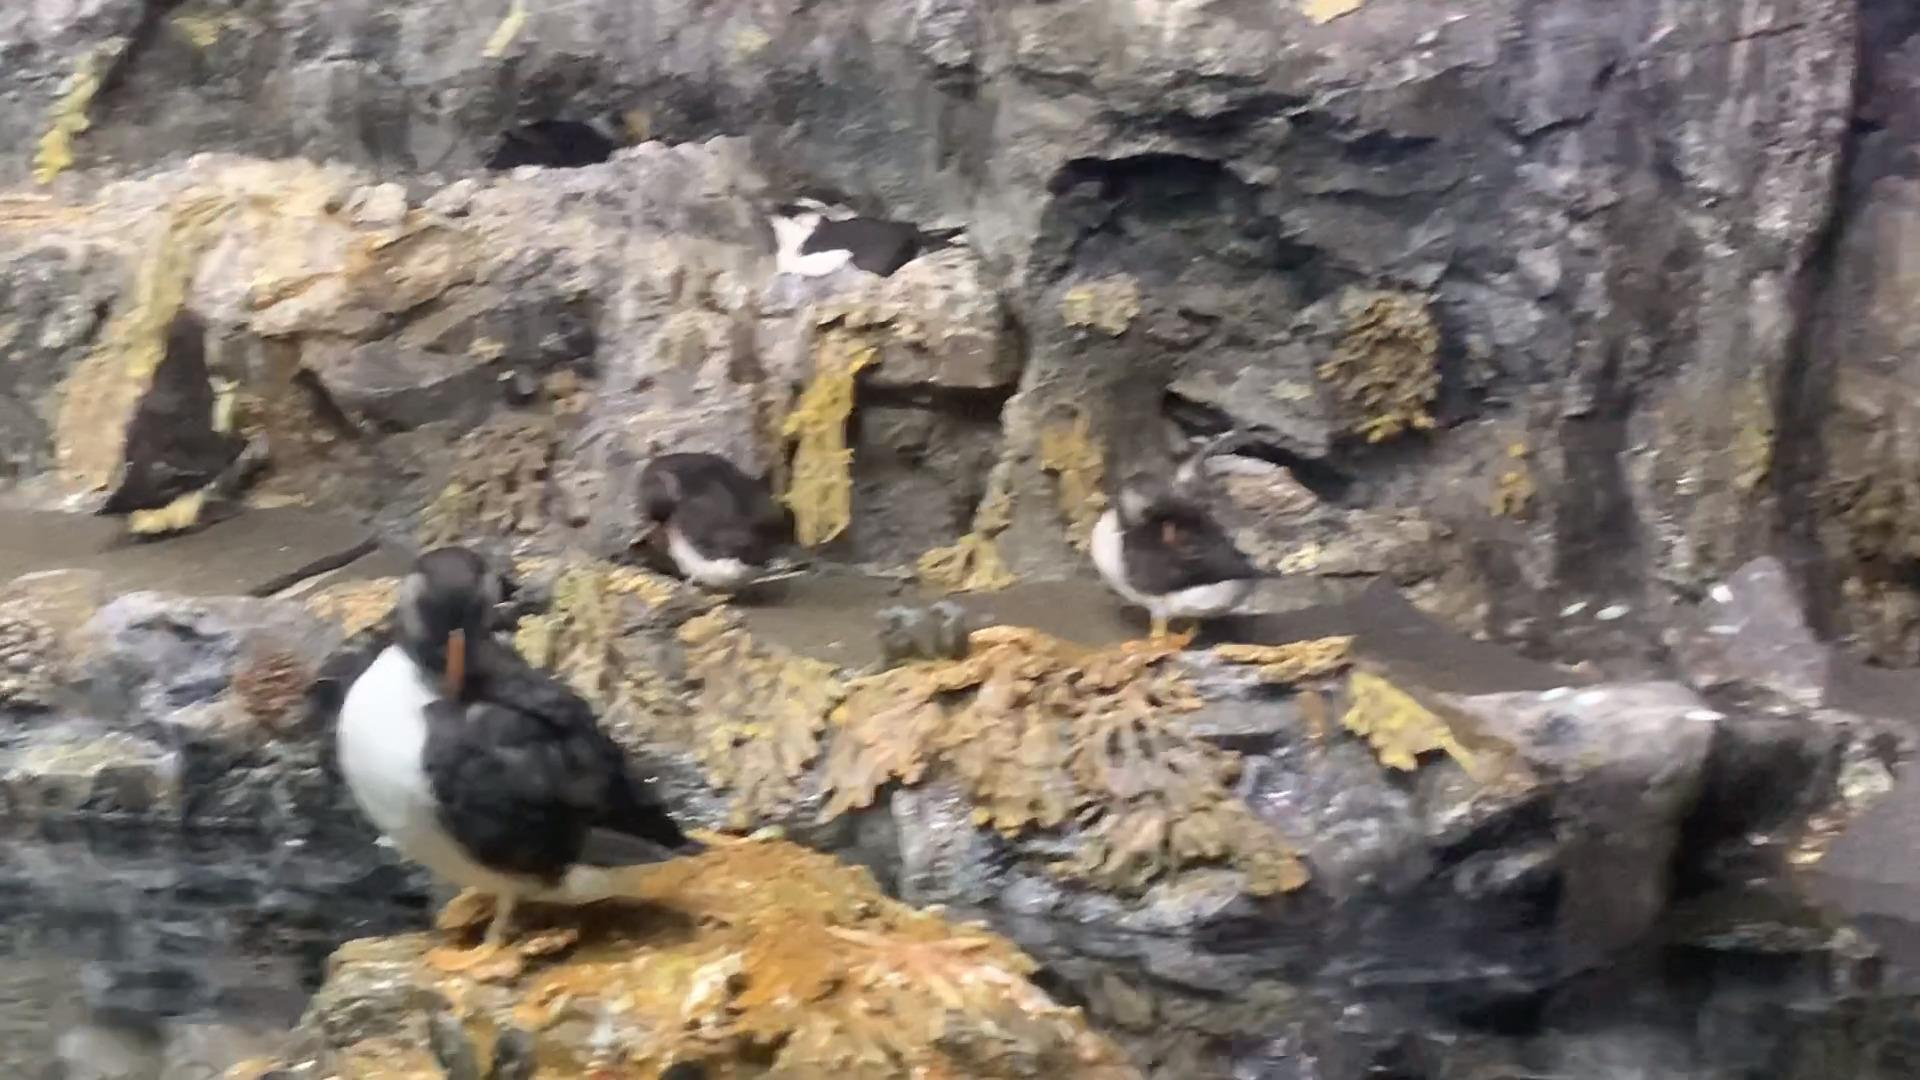puffin: (331, 542, 703, 978), (1088, 468, 1273, 662), (634, 448, 798, 601), (760, 194, 976, 282)
